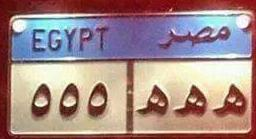5: (54, 81, 81, 121), (85, 81, 111, 120), (27, 79, 53, 118)
haa: (172, 81, 208, 119), (211, 82, 247, 119), (134, 82, 170, 119)
